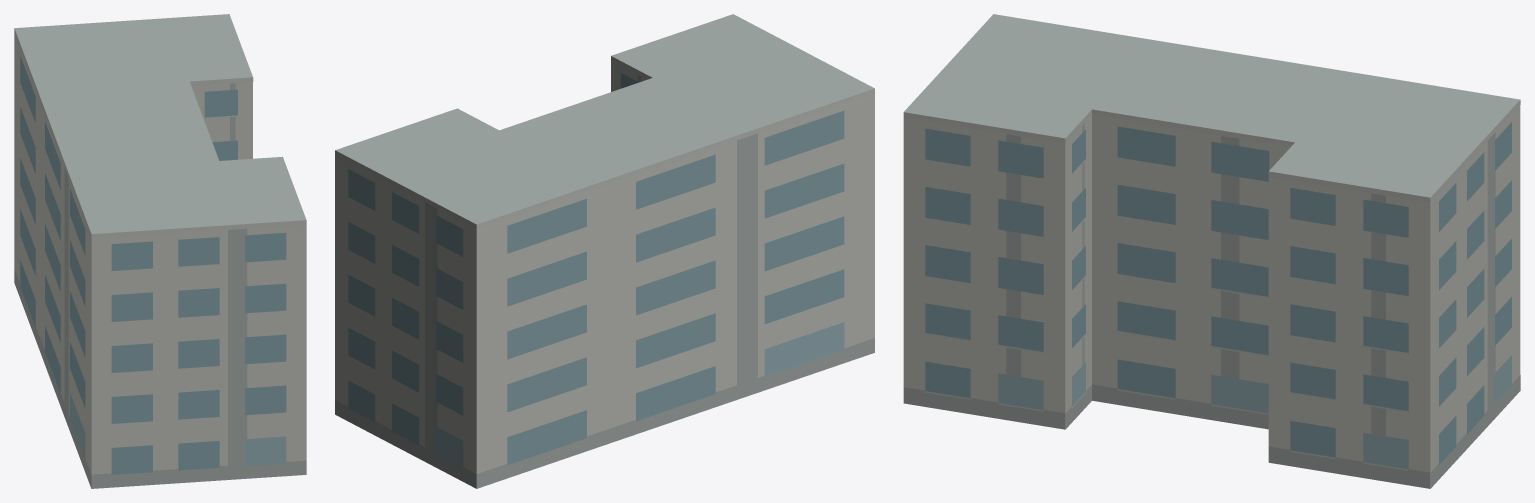
Rendered from survey-upis-32880880.glb.
The picture shows the model from 3 angles, left to right: view 1: azimuth 30°, elevation 25°; view 2: azimuth 150°, elevation 25°; view 3: azimuth 270°, elevation 25°; orthographic projection. The views are drawn at different scales.
Visible parts, largest first — view 1: survey-upis-32880880.tmp; view 2: survey-upis-32880880.tmp; view 3: survey-upis-32880880.tmp.
Boxes of the visible parts, x1,y1,x2,y2 form: survey-upis-32880880.tmp: (14,14,306,488); survey-upis-32880880.tmp: (335,14,874,488); survey-upis-32880880.tmp: (903,14,1520,488).
Bounding box in the file's own units: 17.72 × 13.1 × 25.15.
